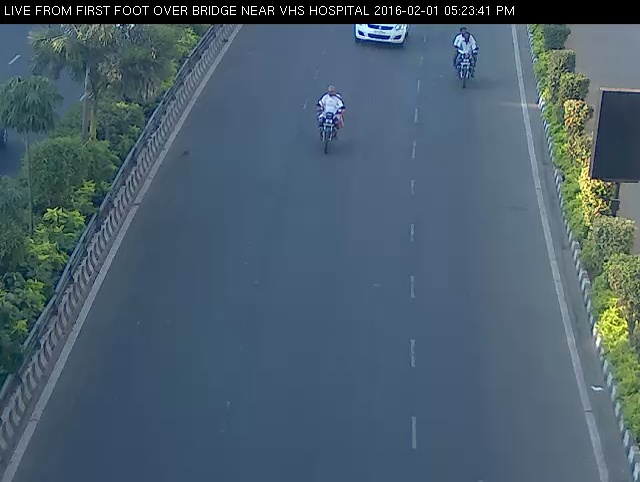Car: (346, 14, 416, 57)
Person: (302, 78, 355, 163), (442, 26, 485, 93)
